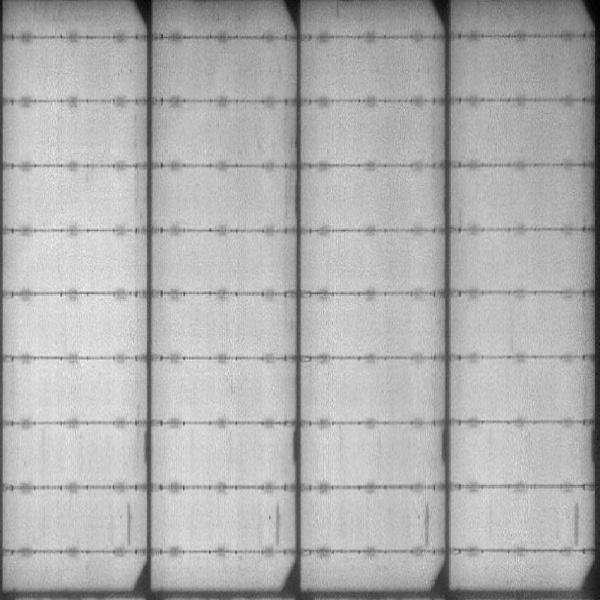scratch: (568, 496, 582, 547), (423, 504, 435, 549), (122, 503, 133, 546), (273, 501, 282, 550)
